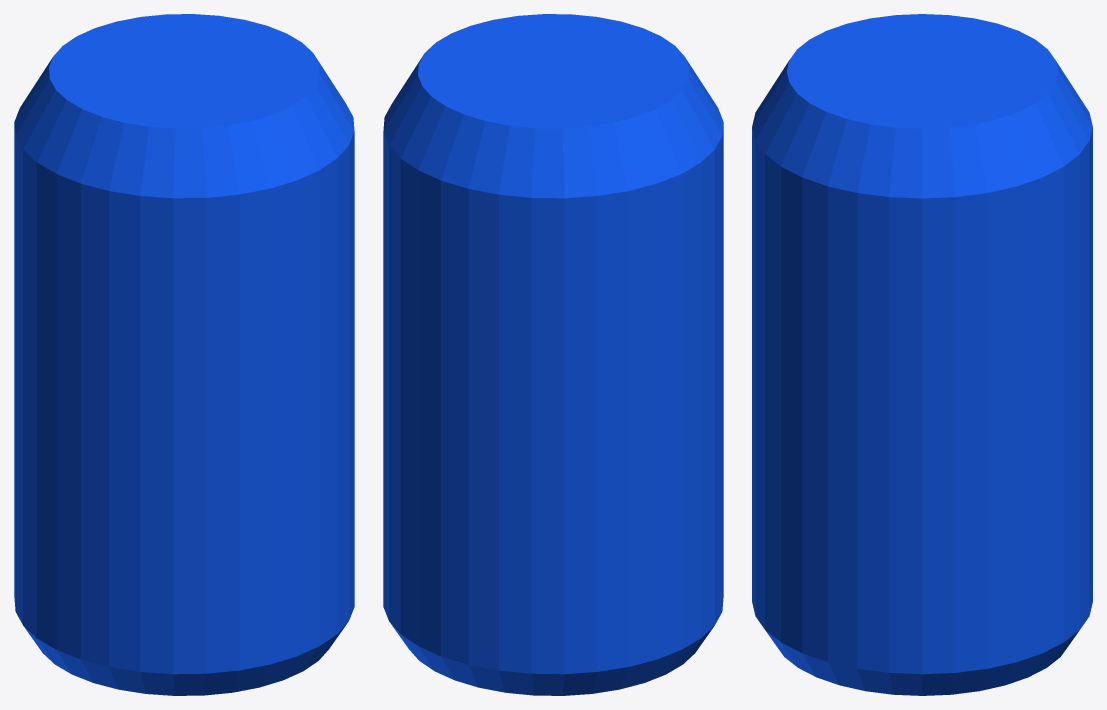
File: barrel_110l.dae
3 renders of one model, left to right at view 1: azimuth 30°, elevation 25°; view 2: azimuth 150°, elevation 25°; view 3: azimuth 270°, elevation 25°, orthographic.
Visible parts, largest first — view 1: barrel_110l; view 2: barrel_110l; view 3: barrel_110l.
Part boxes in pixels (x1=…): barrel_110l: x1=14, y1=14, x2=354, y2=695; barrel_110l: x1=383, y1=14, x2=723, y2=695; barrel_110l: x1=752, y1=14, x2=1092, y2=695.
Size of the model in its own units: 0.33 by 0.33 by 0.6.
Materials: 1 (1 with a texture image).
